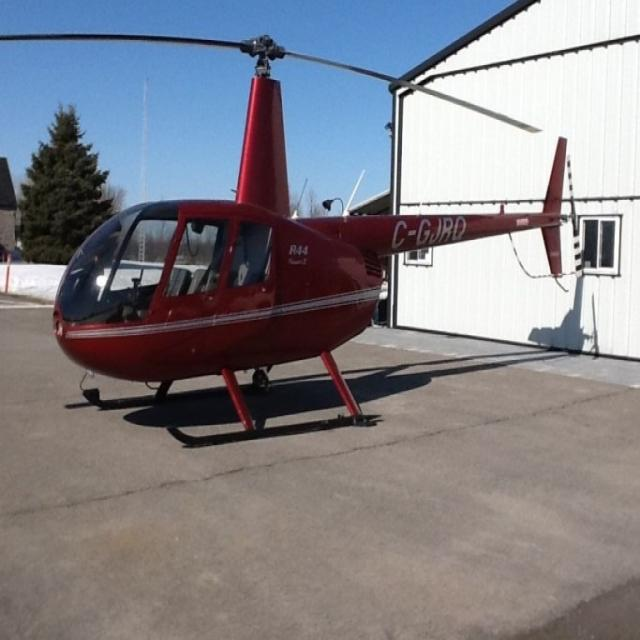CIV_HELO: (49, 29, 569, 450)
